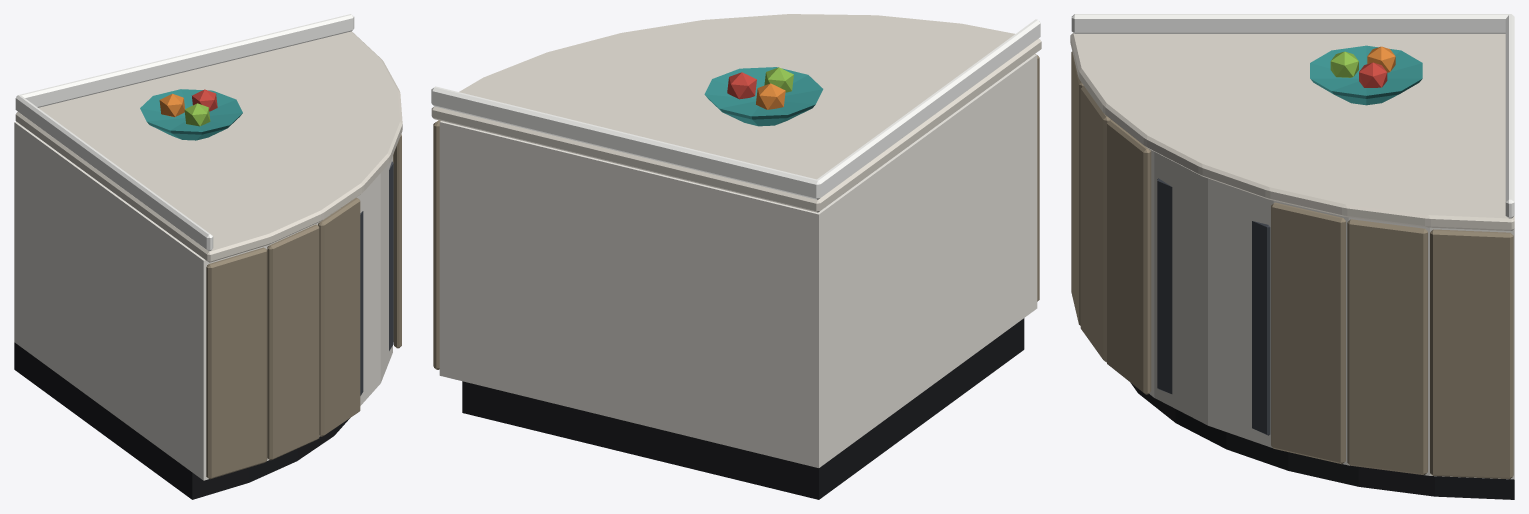
File: kitchen_corner_cabinet_round.glb
3 views of the same model, side by side, from view 1: azimuth 30°, elevation 25°; view 2: azimuth 150°, elevation 25°; view 3: azimuth 270°, elevation 25° (orthographic). The views are drawn at different scales.
Visible parts, largest first — view 1: kitchen_corner_cabinet_round_Body; view 2: kitchen_corner_cabinet_round_Body; view 3: kitchen_corner_cabinet_round_Body.
Part boxes in pixels (<box>): kitchen_corner_cabinet_round_Body: <box>14,14,402,499</box>; kitchen_corner_cabinet_round_Body: <box>431,14,1041,499</box>; kitchen_corner_cabinet_round_Body: <box>1070,14,1514,499</box>.
Bounding box in the file's own units: 1.2 × 1 × 1.2.
